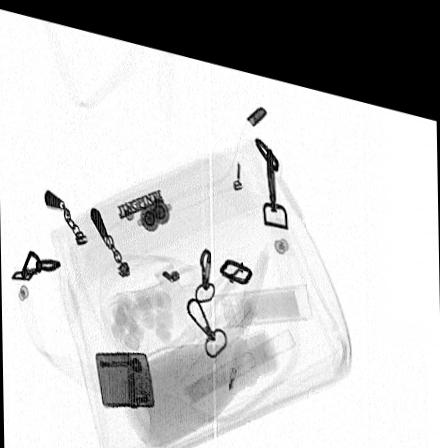Lighter: (94, 343, 154, 401)
